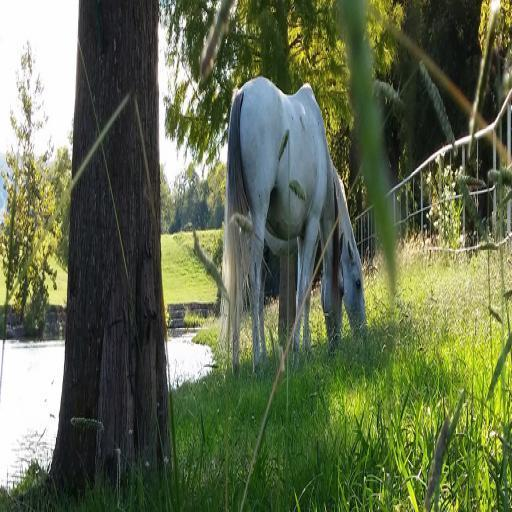horse: (215, 78, 344, 383), (258, 162, 367, 361)
